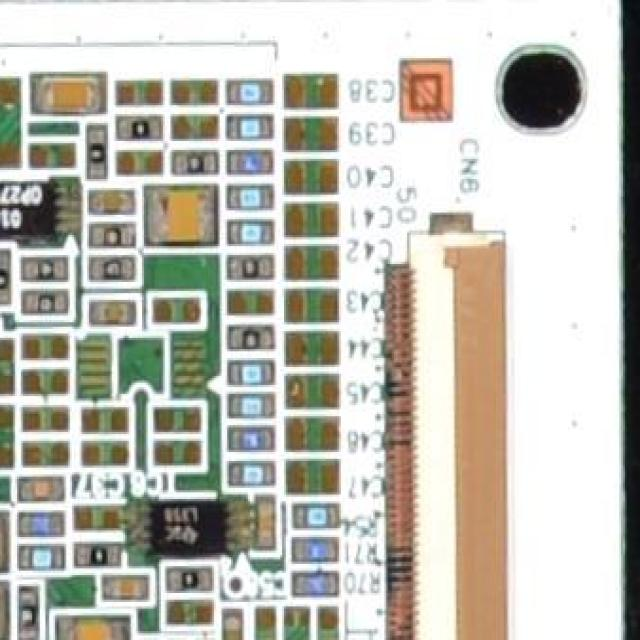IC: (0, 186, 57, 226), (159, 502, 208, 542)
capacitor: (150, 192, 210, 237), (66, 617, 123, 640), (292, 327, 332, 359), (284, 78, 328, 106), (294, 164, 334, 192), (294, 291, 334, 317), (290, 385, 332, 408), (290, 121, 328, 146), (46, 85, 86, 107), (24, 342, 62, 363), (292, 465, 327, 487), (91, 302, 130, 321), (0, 87, 11, 154), (87, 414, 121, 434), (292, 208, 326, 228), (297, 248, 330, 268), (157, 302, 191, 321), (295, 423, 329, 442), (106, 577, 138, 595), (24, 481, 60, 496), (82, 513, 116, 528), (96, 197, 127, 212), (259, 608, 272, 640), (258, 506, 269, 542), (237, 298, 263, 312), (225, 613, 237, 640)
connector: (393, 259, 511, 640)
resistor: (21, 407, 64, 427), (154, 445, 196, 462), (80, 443, 115, 462), (231, 260, 270, 276), (174, 570, 205, 590), (74, 546, 113, 561), (23, 378, 61, 393), (29, 443, 60, 461), (89, 132, 102, 173), (157, 414, 192, 429), (176, 154, 204, 172), (40, 146, 69, 163), (236, 336, 268, 351), (24, 517, 54, 533), (318, 608, 333, 640), (28, 300, 62, 314), (125, 161, 158, 175), (125, 123, 155, 138), (235, 85, 264, 100), (23, 595, 35, 629), (119, 90, 148, 104), (236, 121, 264, 134), (239, 190, 265, 204), (98, 230, 125, 243), (26, 553, 52, 566), (180, 119, 205, 132), (312, 544, 335, 558), (100, 264, 120, 280), (30, 260, 56, 272), (297, 510, 328, 520), (238, 154, 260, 168), (0, 349, 8, 385), (305, 577, 329, 589), (184, 88, 206, 101), (237, 430, 262, 441), (235, 403, 261, 412), (290, 615, 299, 640), (239, 365, 261, 375), (244, 466, 266, 476), (242, 226, 268, 234), (0, 416, 4, 463), (0, 255, 2, 291)
